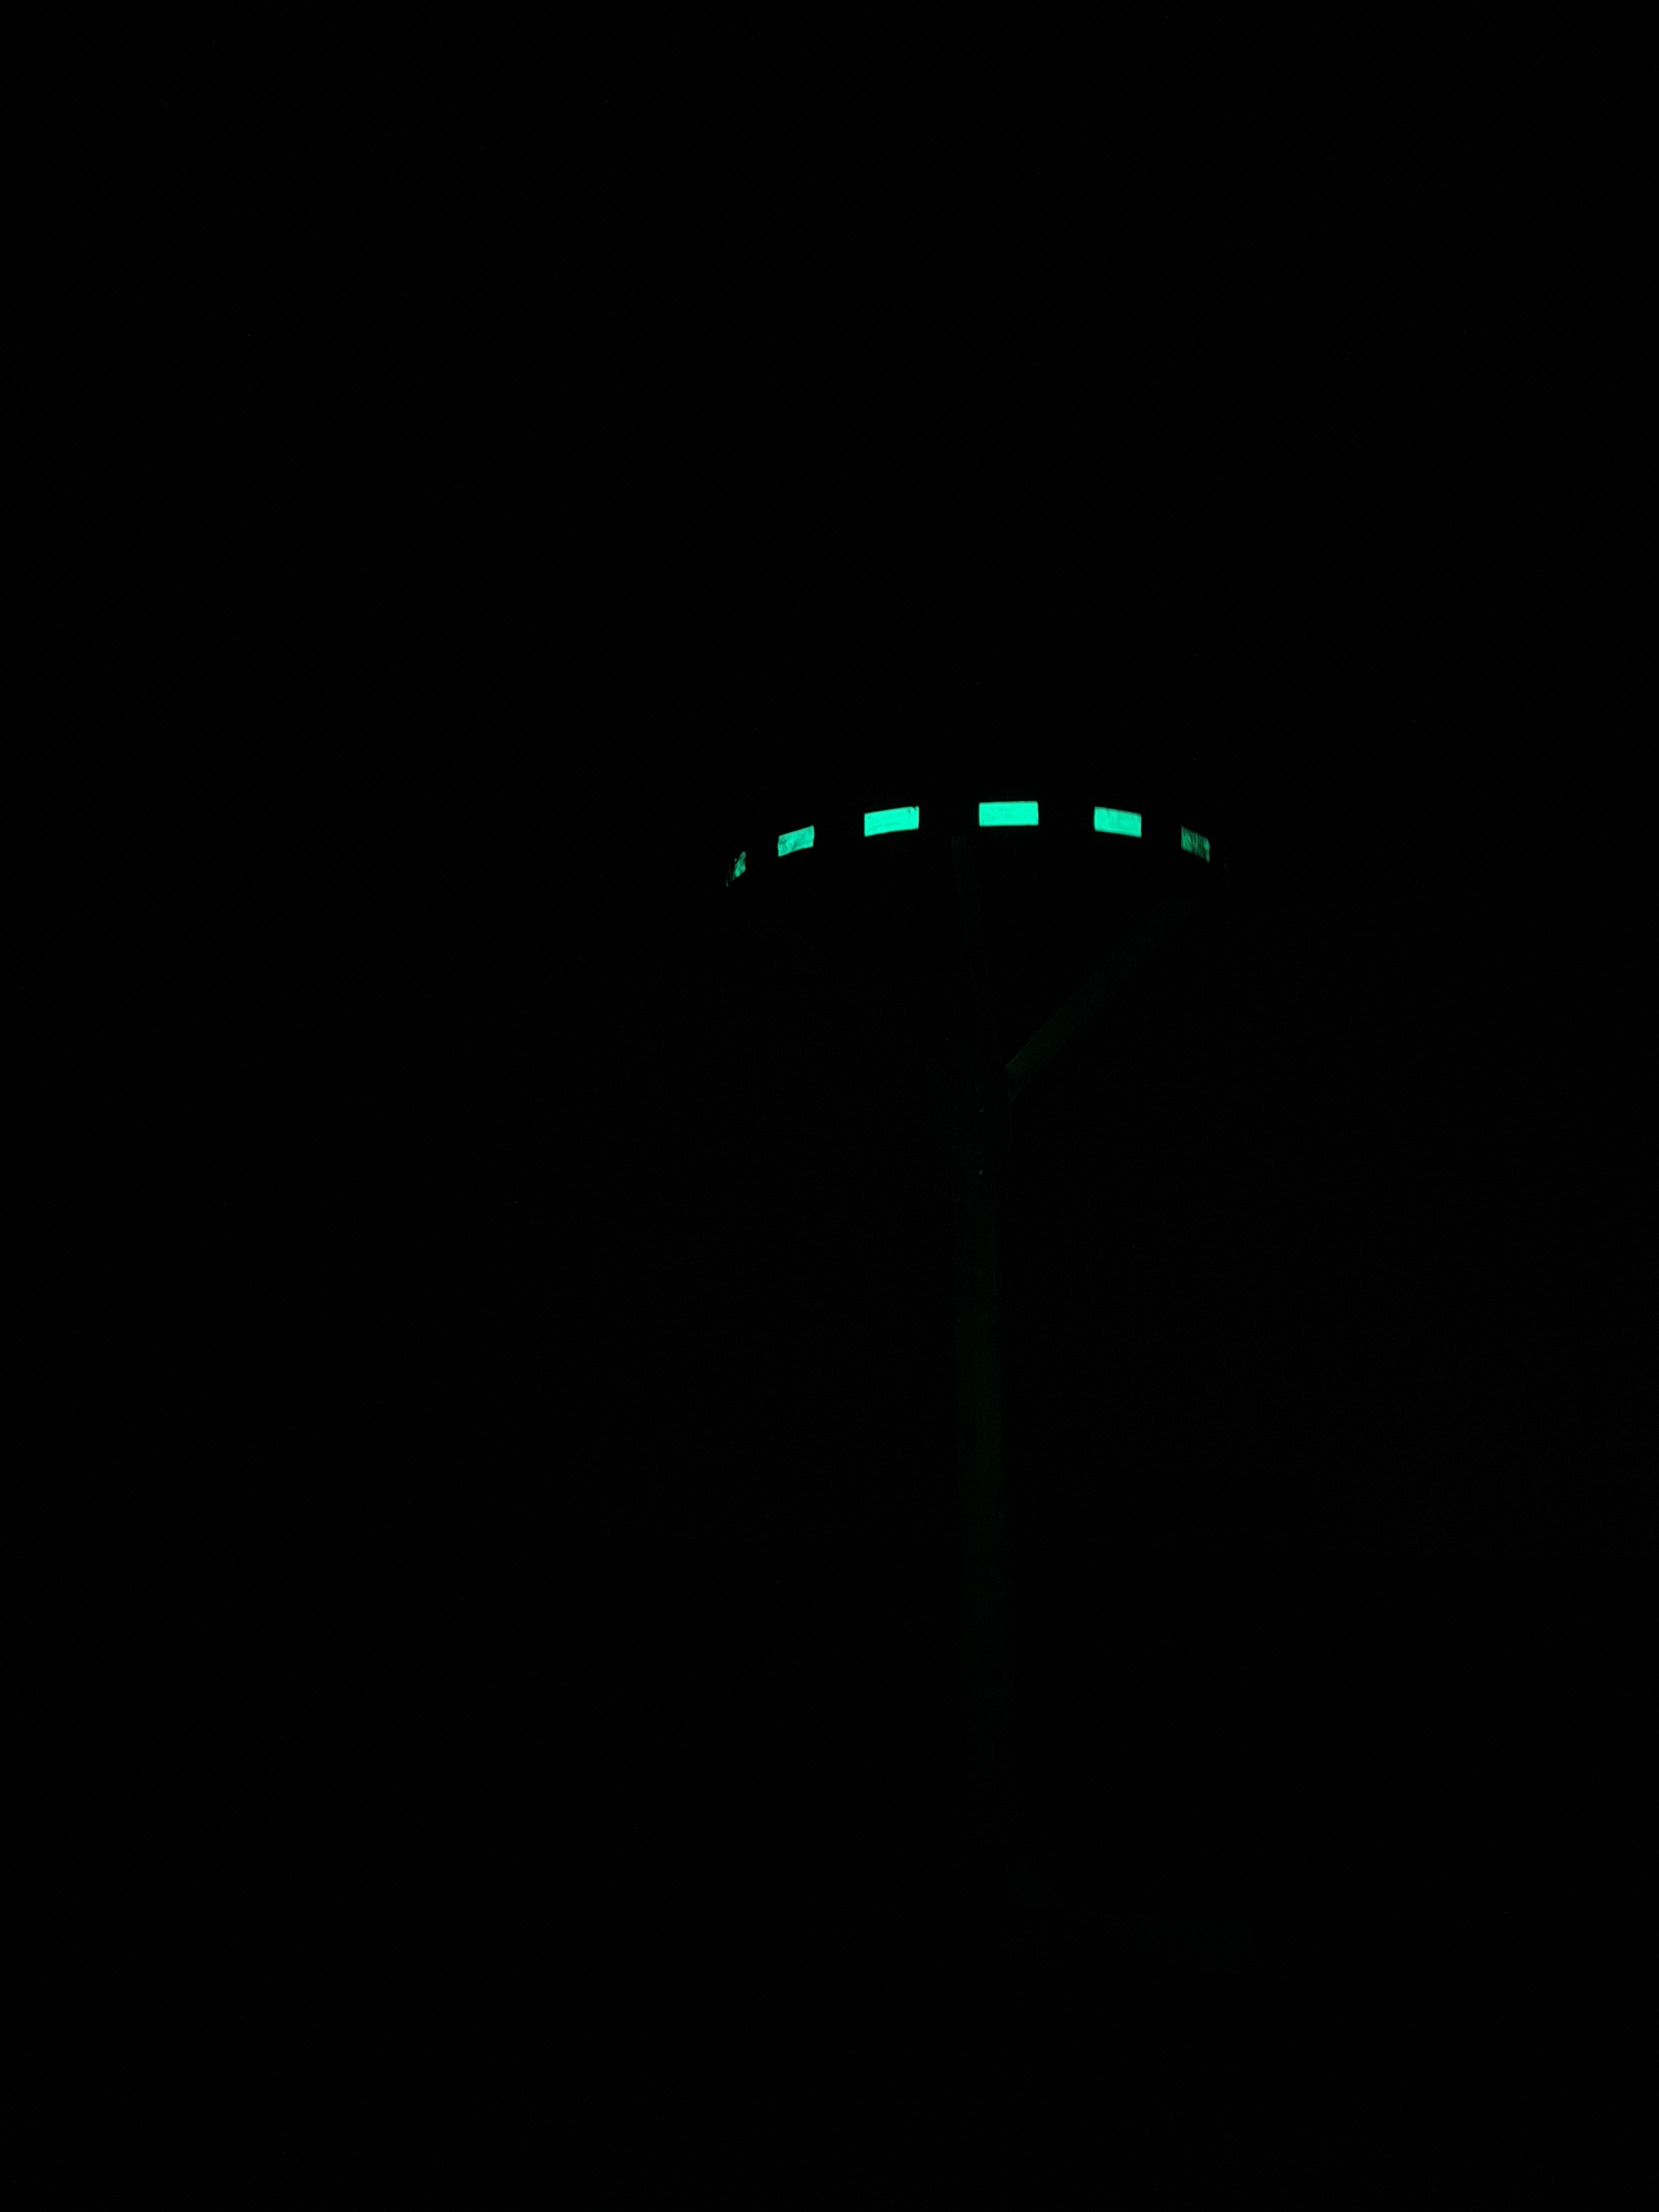hoop: (708, 787, 1220, 897)
